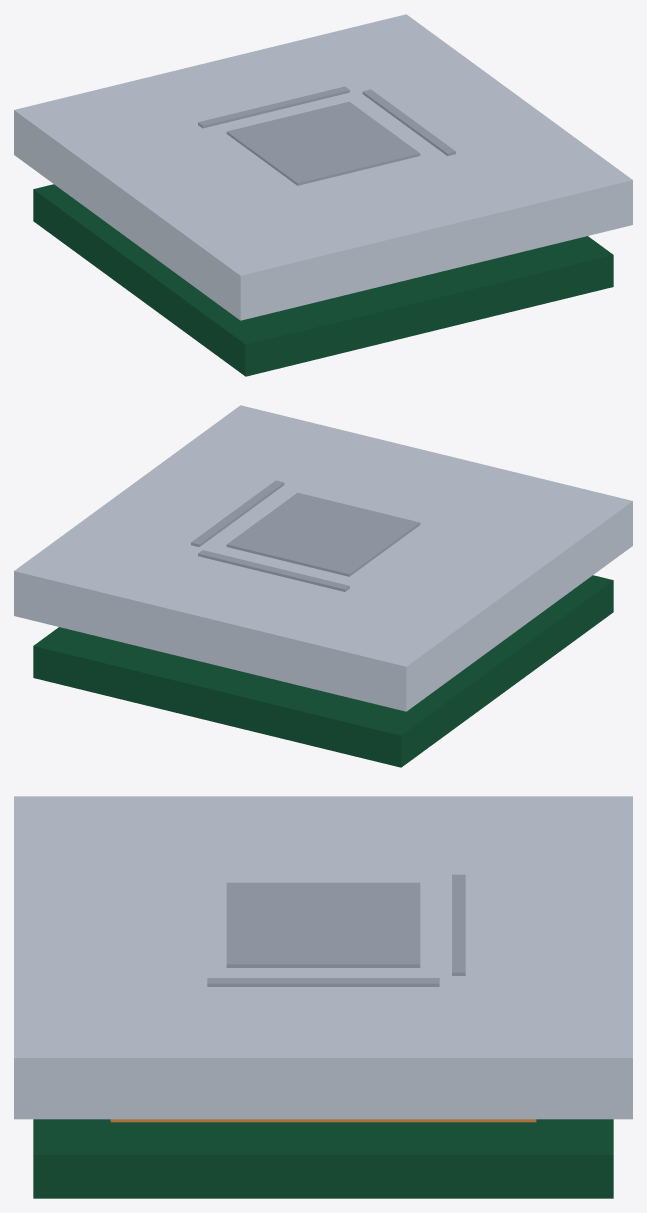
File: cpu-realista.glb
3 views of the same model, one above another, from view 1: azimuth 30°, elevation 25°; view 2: azimuth 150°, elevation 25°; view 3: azimuth 270°, elevation 25° (orthographic). The views are drawn at different scales.
Visible parts, largest first — view 1: ihs, sustrato, grabado (×3); view 2: ihs, sustrato, grabado (×3); view 3: ihs, sustrato, grabado (×3), cobre.
Boxes of the visible parts, box(x1,y1,x2,y2) form: ihs: box(14, 14, 632, 320); sustrato: box(33, 184, 613, 376); grabado (×3): box(198, 86, 455, 185); ihs: box(14, 405, 632, 711); sustrato: box(33, 575, 613, 767); grabado (×3): box(191, 480, 420, 591); ihs: box(14, 796, 632, 1119); sustrato: box(33, 1119, 613, 1198); grabado (×3): box(207, 874, 465, 986); cobre: box(110, 1119, 536, 1122).
Bounding box in the file's own units: 6.4 × 1.81 × 6.4.
